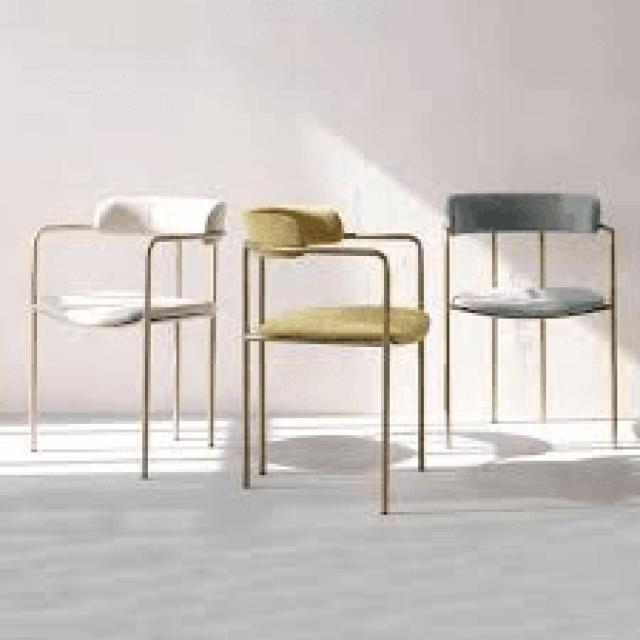chair: (238, 202, 436, 516), (24, 190, 230, 483), (441, 186, 624, 454), (249, 193, 431, 342), (38, 181, 226, 314), (442, 182, 624, 310)
